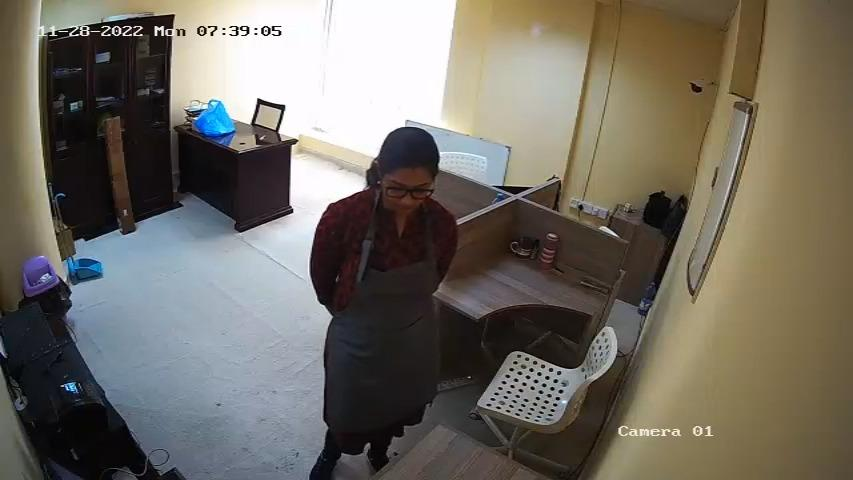apron: (321, 219, 439, 400)
